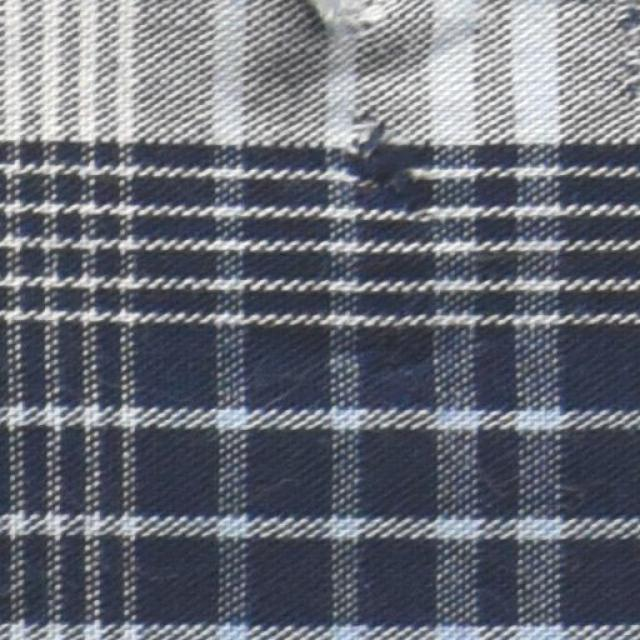Hole: (331, 101, 398, 170), (308, 0, 351, 20)
